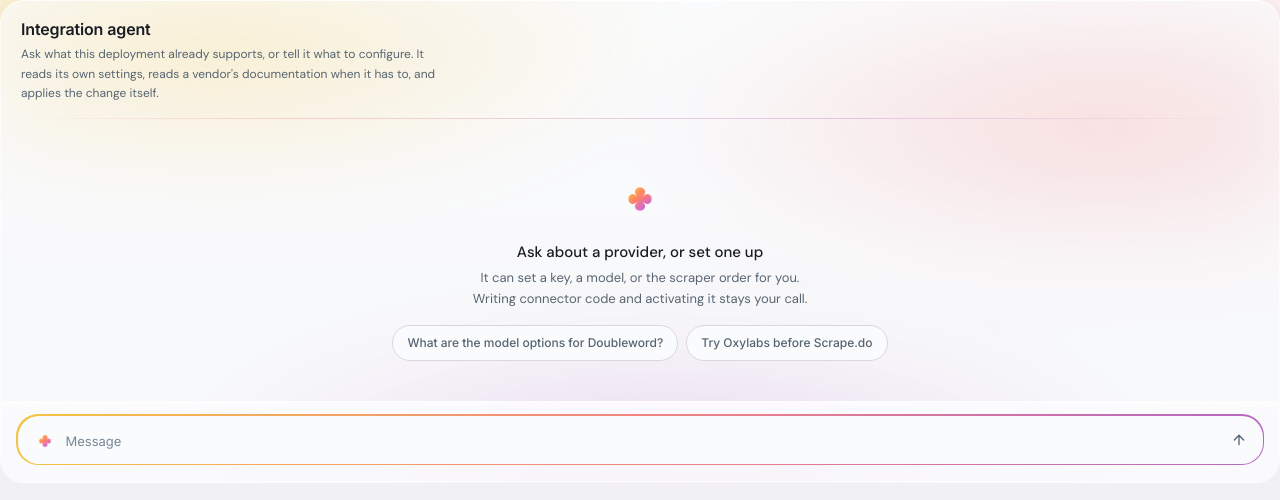
Test: Integration agent panel › sends on Enter and renders the reply with its sources and validation result
Type "Add a hosted extraction API" into the text box named "Message the integration agent" at x=639, y=442, box [66,426,1212,458]
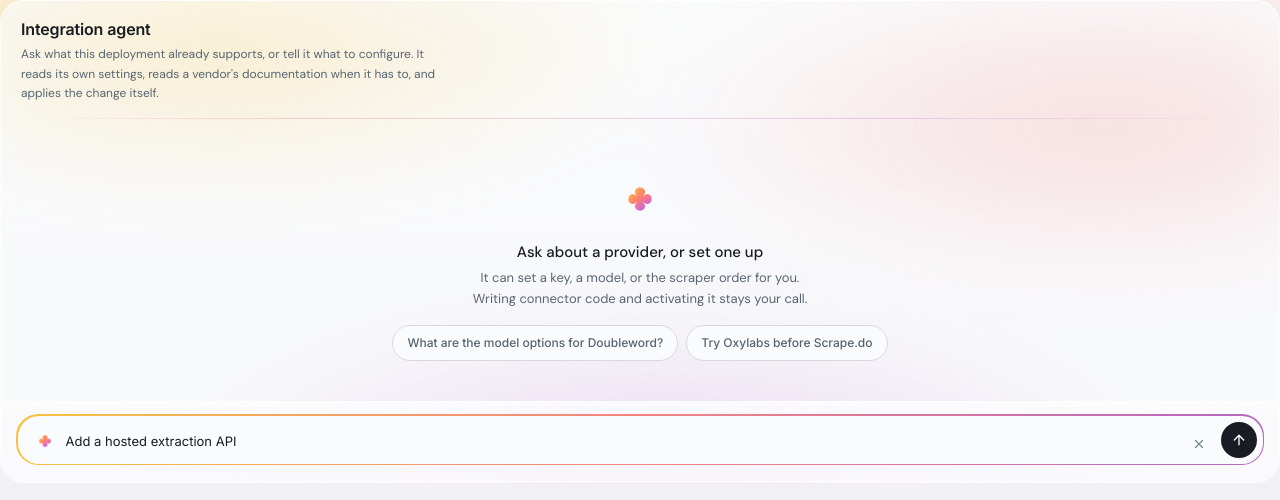
Press Enter in the text box named "Message the integration agent", box [66,426,1176,458]
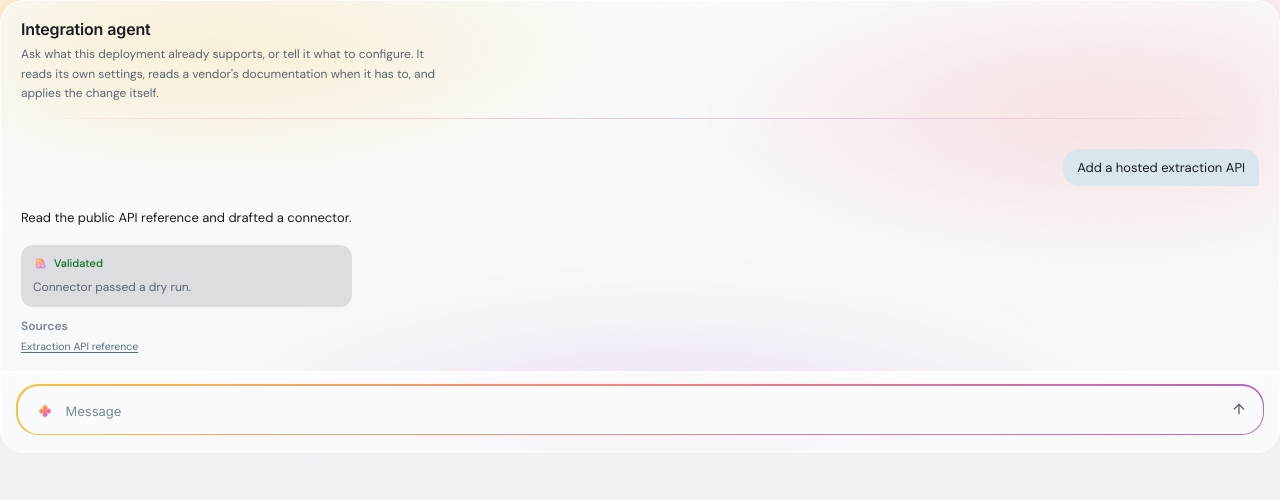
Now the text "Add a hosted extraction API" is shown, box [1063,148,1259,186]
Now the text box named "Message the integration agent" is empty, box [66,396,1212,427]
Now the text "Read the public API reference and drafted a connector." is shown, box [21,208,352,229]
